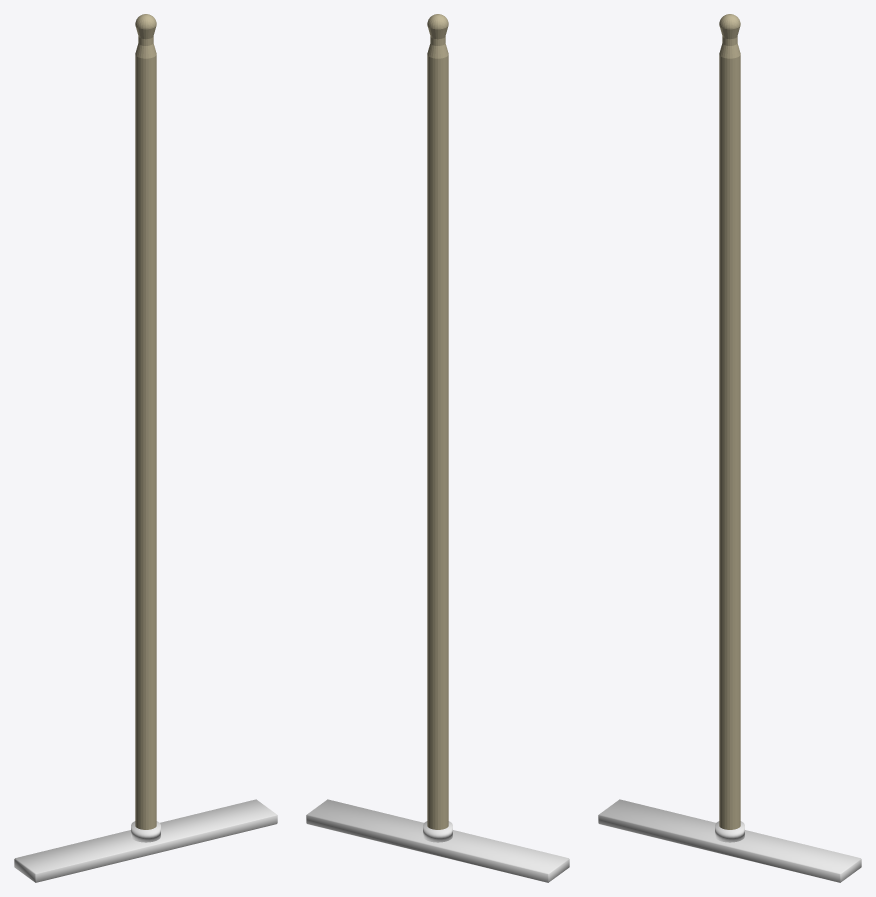
The model's file is Broom2.fbx.
3 renders of one model, left to right at view 1: azimuth 30°, elevation 25°; view 2: azimuth 150°, elevation 25°; view 3: azimuth 330°, elevation 25°, orthographic.
Parts seen in each view (by area): view 1: Broom, Cylinder.001; view 2: Broom, Cylinder.001; view 3: Broom, Cylinder.001.
Boxes of the visible parts, x1,y1,x2,y2 form: Broom: (135,14,156,829); Cylinder.001: (14,799,277,882); Broom: (427,14,448,829); Cylinder.001: (306,799,569,882); Broom: (719,14,740,829); Cylinder.001: (598,799,861,882).
Bounding box in the file's own units: 2.6 × 8.5 × 0.4.
